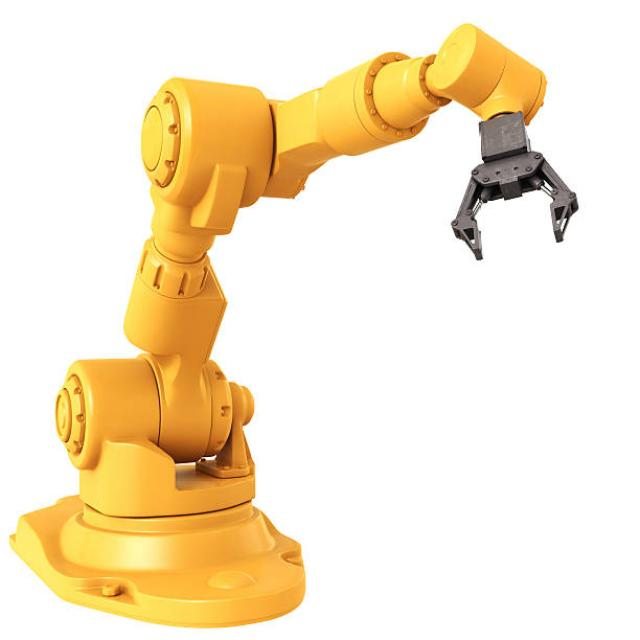Robotic-arm: (11, 14, 587, 640)
